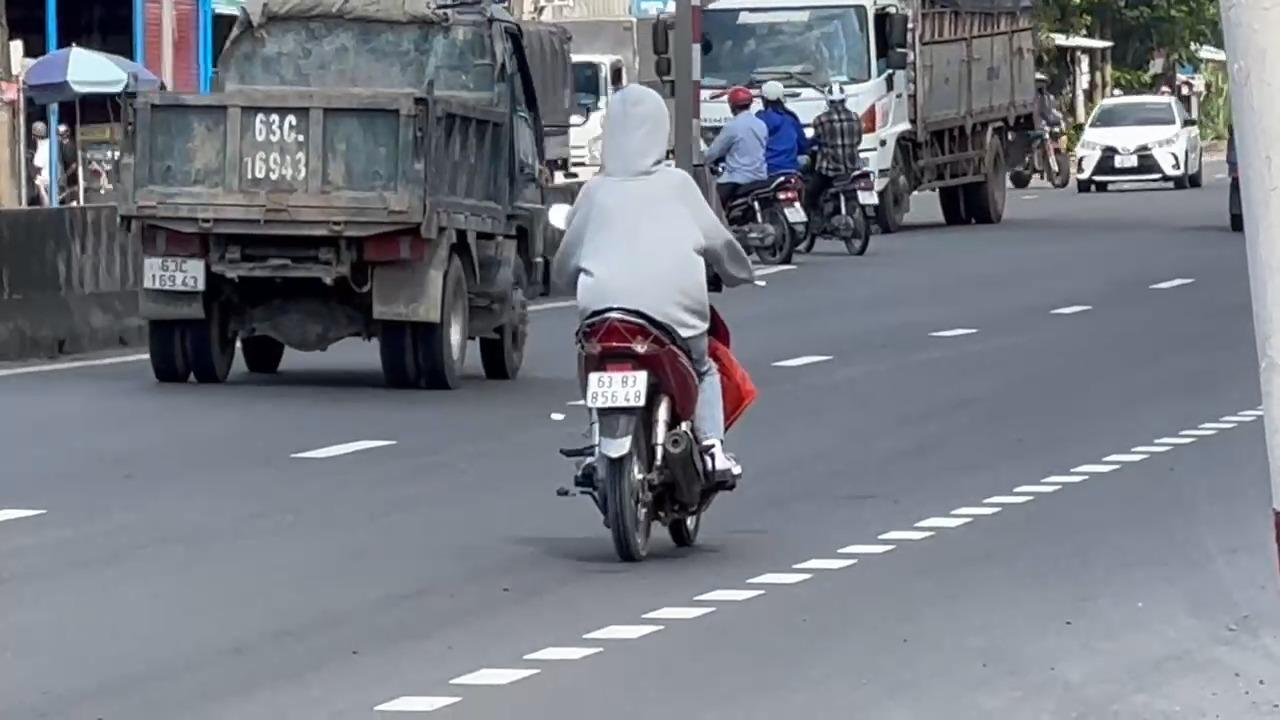bien_so: (584, 369, 648, 408), (142, 255, 206, 292)
